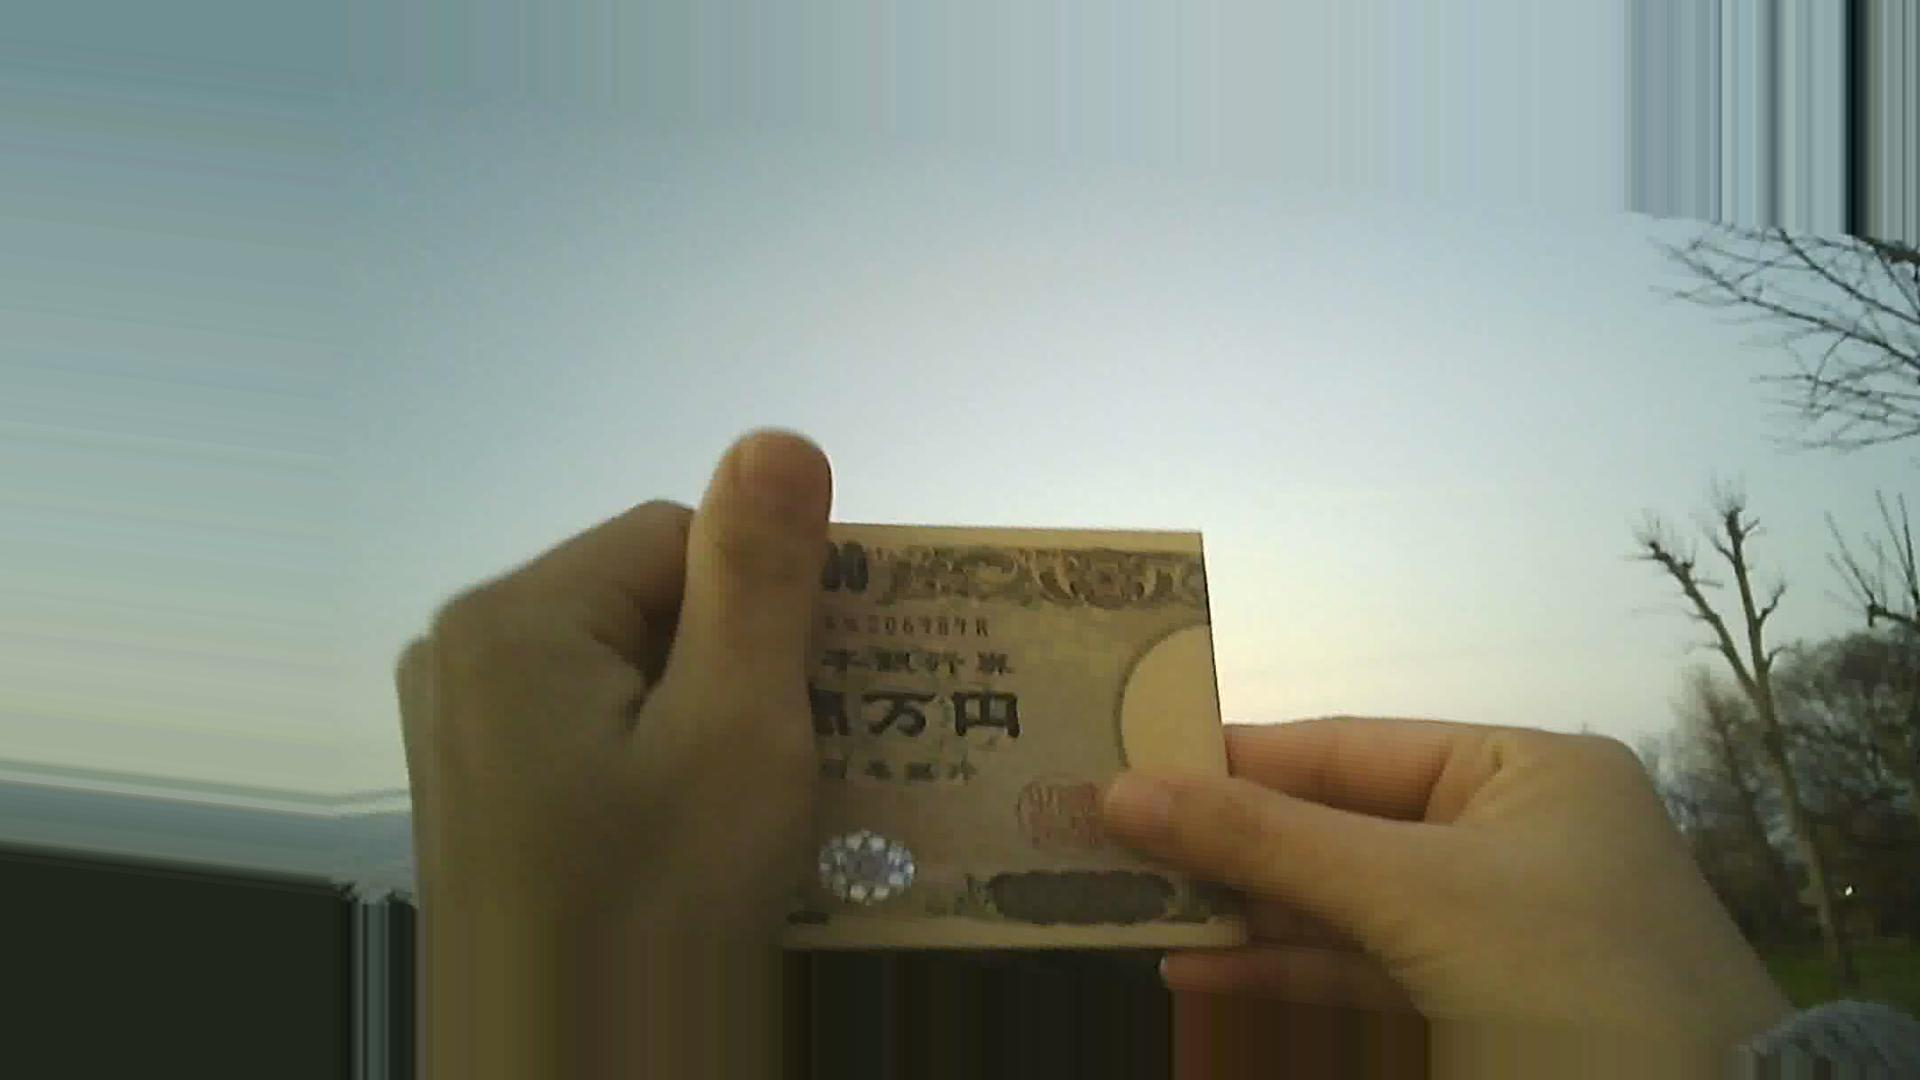10,000 Yen: (684, 464, 1298, 971)
